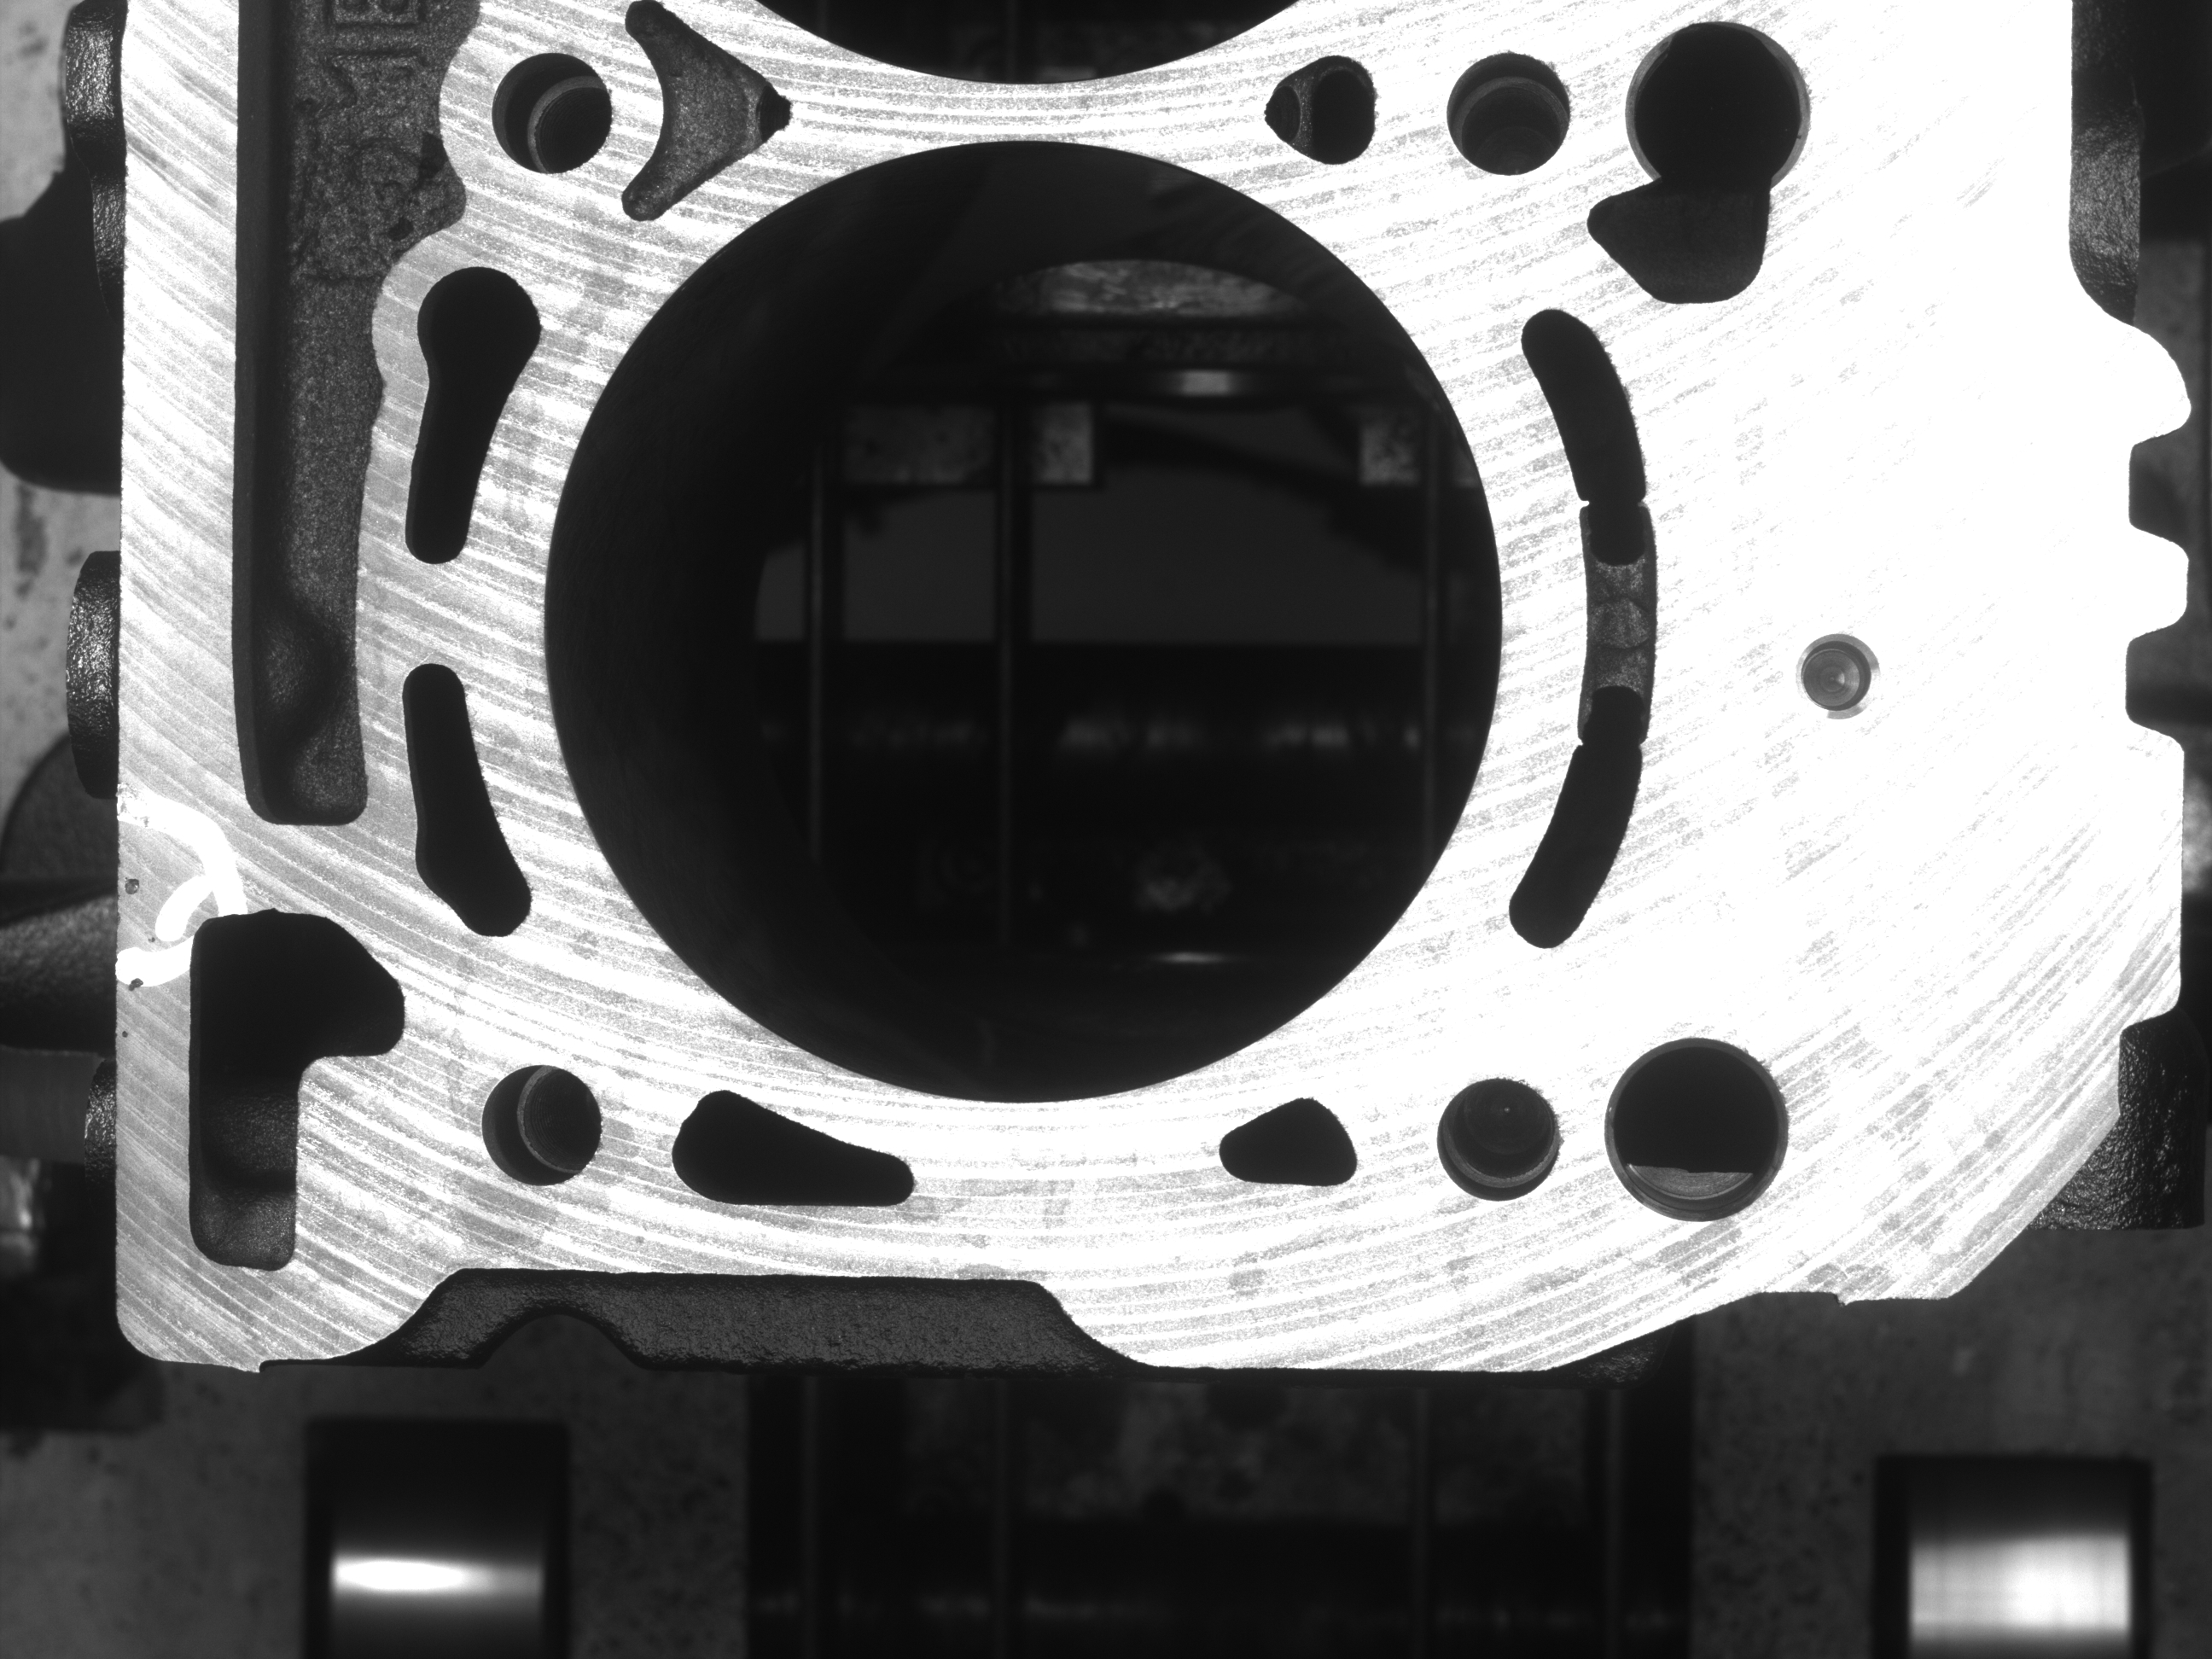crackle: (122, 868, 153, 904)
